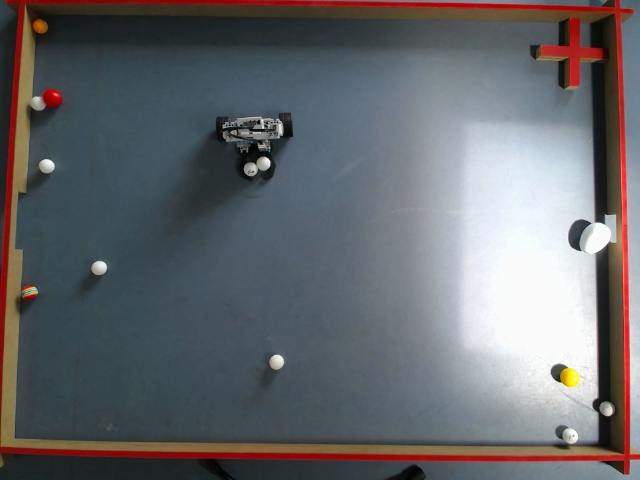big_goal: (2, 189, 27, 249)
cross: (536, 18, 610, 92)
egg: (578, 222, 612, 254)
orange: (32, 17, 47, 33)
robot: (215, 111, 293, 180)
small_goal: (604, 210, 628, 243)
wall: (0, 438, 638, 459), (602, 0, 630, 474)
white: (38, 158, 55, 173), (562, 426, 577, 443), (268, 354, 284, 369), (90, 261, 106, 275), (30, 95, 44, 110), (243, 162, 256, 176), (256, 155, 270, 168), (600, 402, 614, 414)
